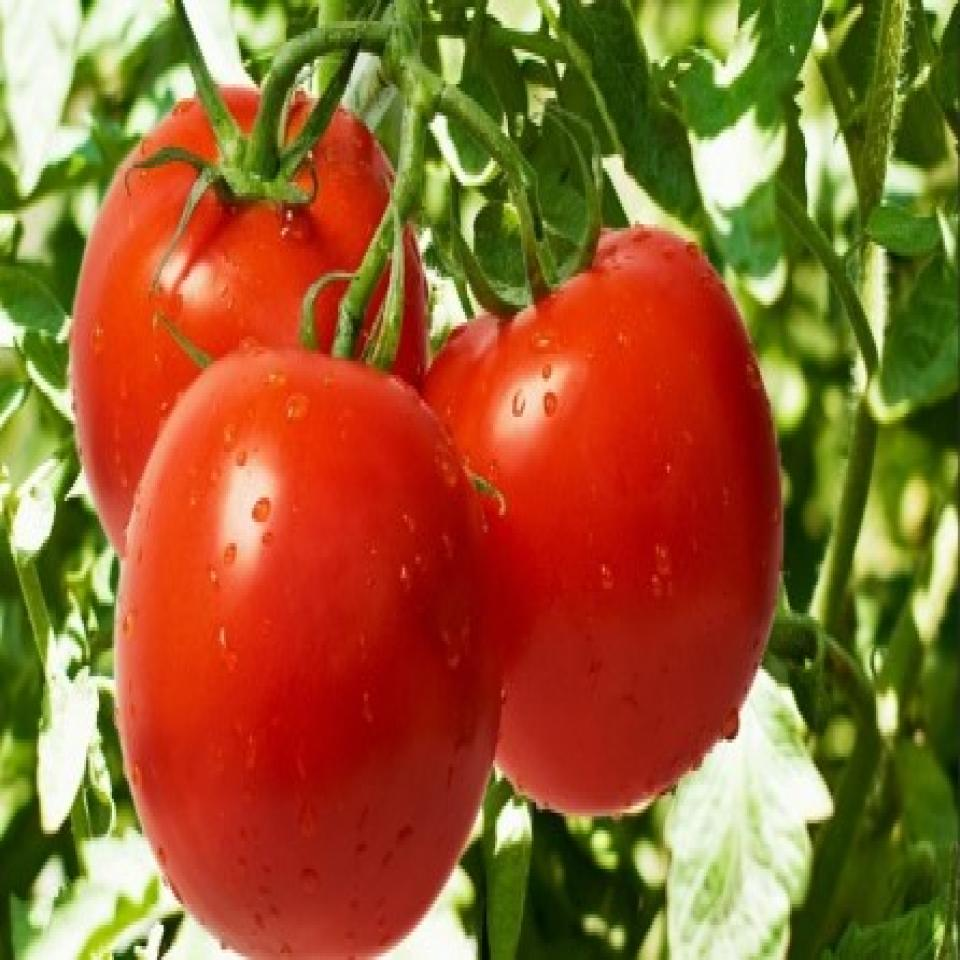Healthy: (86, 382, 497, 960), (432, 241, 782, 814), (76, 67, 436, 528)
